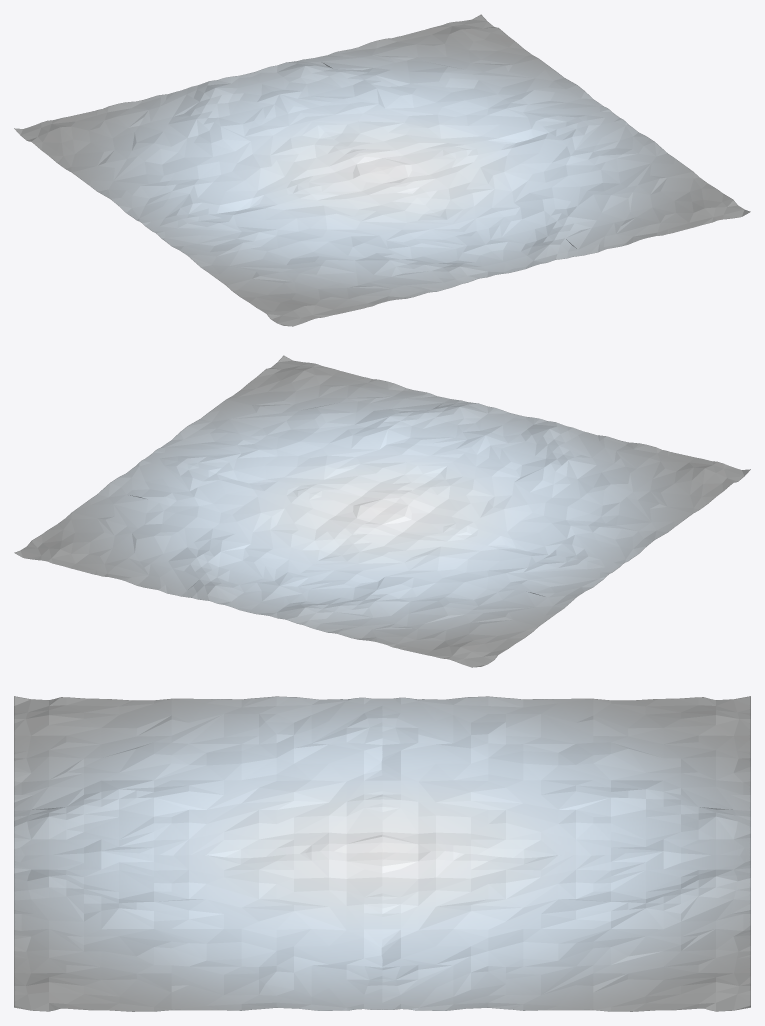
File: Mountain_Water.FBX
3 views of the same model, one above another, from view 1: azimuth 30°, elevation 25°; view 2: azimuth 150°, elevation 25°; view 3: azimuth 270°, elevation 25° (orthographic). The views are drawn at different scales.
Visible parts, largest first — view 1: Mountain_Water; view 2: Mountain_Water; view 3: Mountain_Water.
Part boxes in pixels (x1,y1,x2,y2): Mountain_Water: [14, 14, 750, 326]; Mountain_Water: [14, 355, 750, 667]; Mountain_Water: [14, 696, 750, 1011].
Bounding box in the file's own units: 6991 × 130 × 6991.
Materials: 1 (1 with a texture image).
